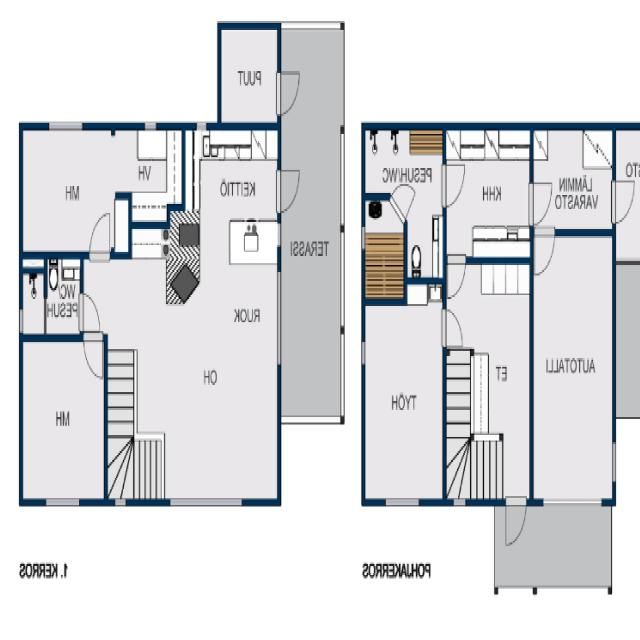door: (391, 170, 417, 224), (278, 72, 302, 116), (506, 498, 526, 550), (278, 169, 302, 212), (89, 209, 110, 258), (443, 165, 467, 207), (612, 182, 636, 222), (535, 229, 554, 277), (84, 334, 103, 382), (530, 185, 552, 224), (448, 257, 466, 302), (443, 310, 464, 348), (80, 294, 100, 330)
